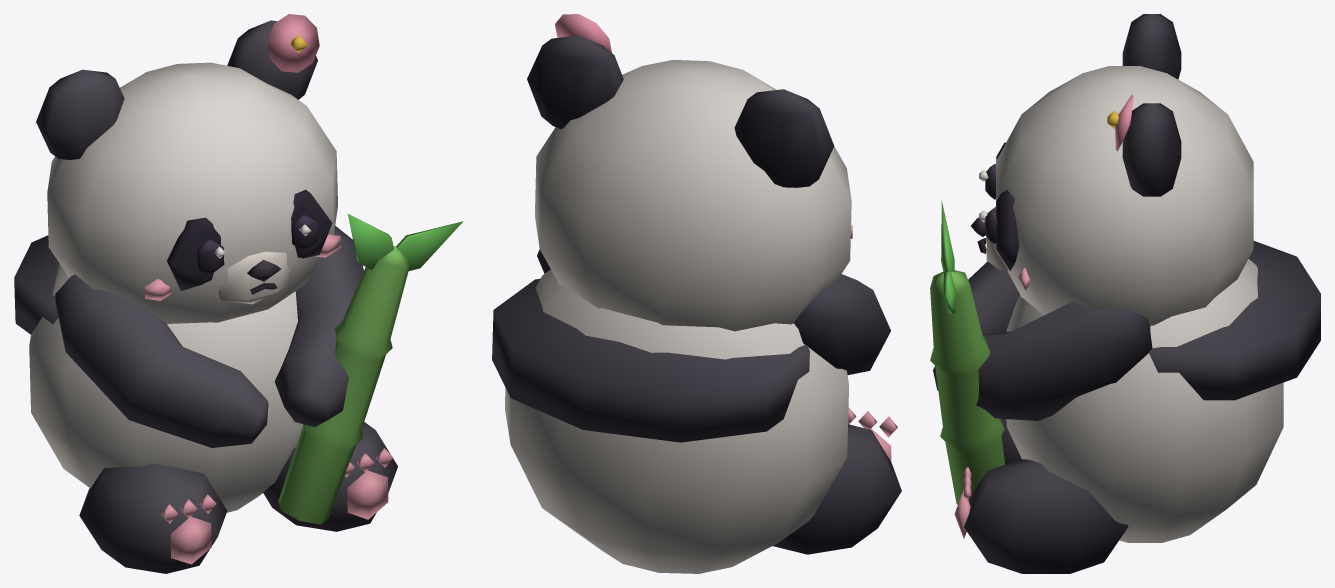
File: furn-pandaPlush.glb
3 renders of one model, left to right at view 1: azimuth 30°, elevation 25°; view 2: azimuth 150°, elevation 25°; view 3: azimuth 270°, elevation 25°, orthographic. The views are drawn at different scales.
Visible parts, largest first — view 1: furn-pandaPlush; view 2: furn-pandaPlush; view 3: furn-pandaPlush.
Part boxes in pixels (x1,y1,x2,y2): furn-pandaPlush: (14,14,462,573); furn-pandaPlush: (492,14,901,573); furn-pandaPlush: (930,14,1320,573).
Size of the model in its own units: 0.2229 by 0.3079 by 0.2286.
